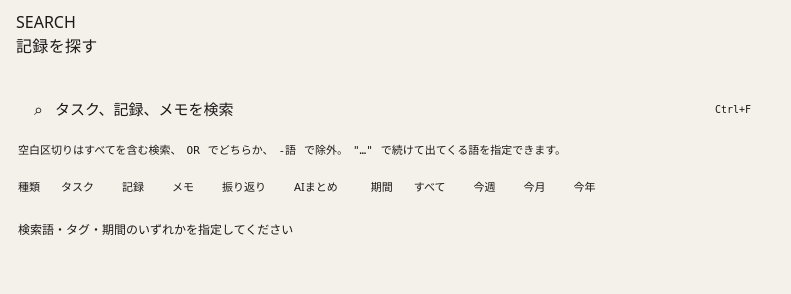
Test: shows an error without losing the page
Type "会議" into the field with placeholder "タスク、記録、メモを検索" at (375, 109), box [55,97,696,121]
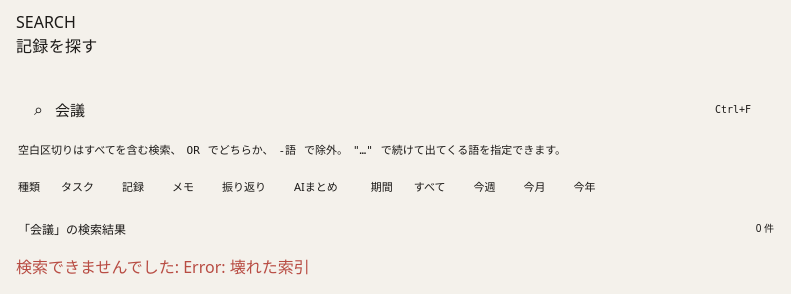
Check: the message shows "検索できませんでした", box [16,256,310,278]
